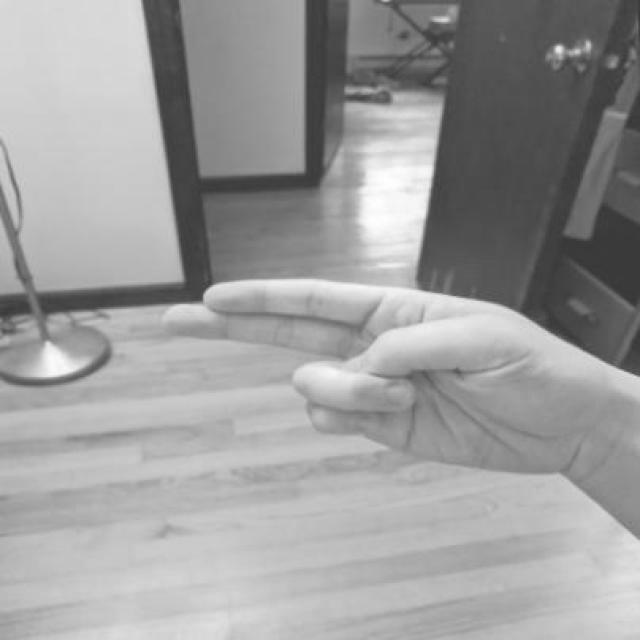H: (148, 268, 595, 486)
